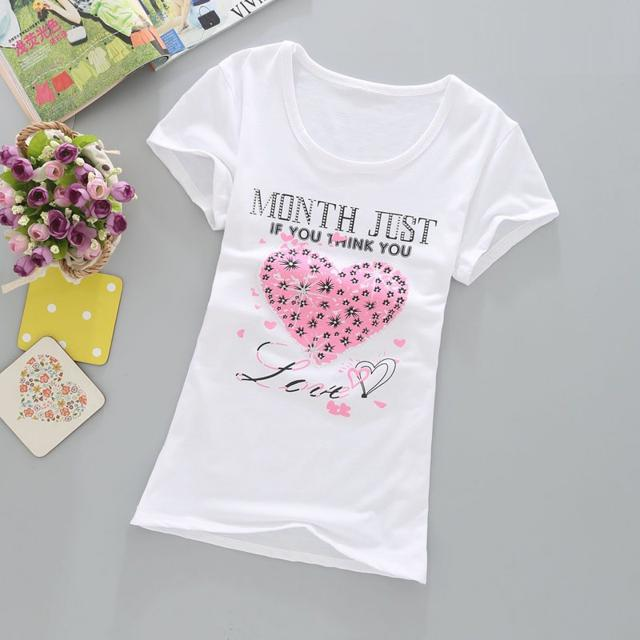Tops: (143, 35, 553, 582)
